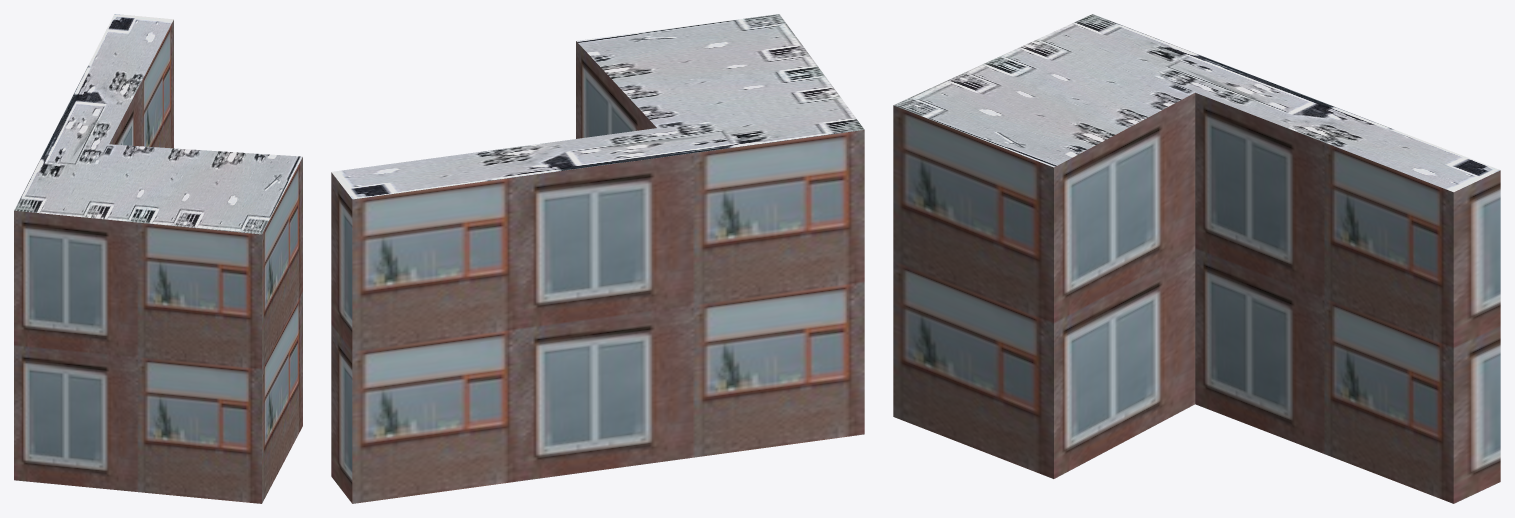
The model's file is ResTex__2162.fbx.
The picture shows the model from 3 angles, left to right: view 1: azimuth 30°, elevation 25°; view 2: azimuth 150°, elevation 25°; view 3: azimuth 270°, elevation 25°; orthographic projection. The views are drawn at different scales.
Visible parts, largest first — view 1: CityEngineMaterial_19_m, CityEngineMaterial_m; view 2: CityEngineMaterial_19_m, CityEngineMaterial_m; view 3: CityEngineMaterial_19_m, CityEngineMaterial_m.
Boxes of the visible parts, left/top/right/bottom form: CityEngineMaterial_19_m: left=14, top=20, right=302, bottom=503; CityEngineMaterial_m: left=14, top=14, right=302, bottom=234; CityEngineMaterial_19_m: left=331, top=41, right=864, bottom=503; CityEngineMaterial_m: left=331, top=14, right=864, bottom=199; CityEngineMaterial_19_m: left=893, top=92, right=1500, bottom=503; CityEngineMaterial_m: left=893, top=14, right=1500, bottom=192.
Size of the model in its own units: 7.36 by 6 by 10.6.
Materials: 2 (2 with a texture image).
